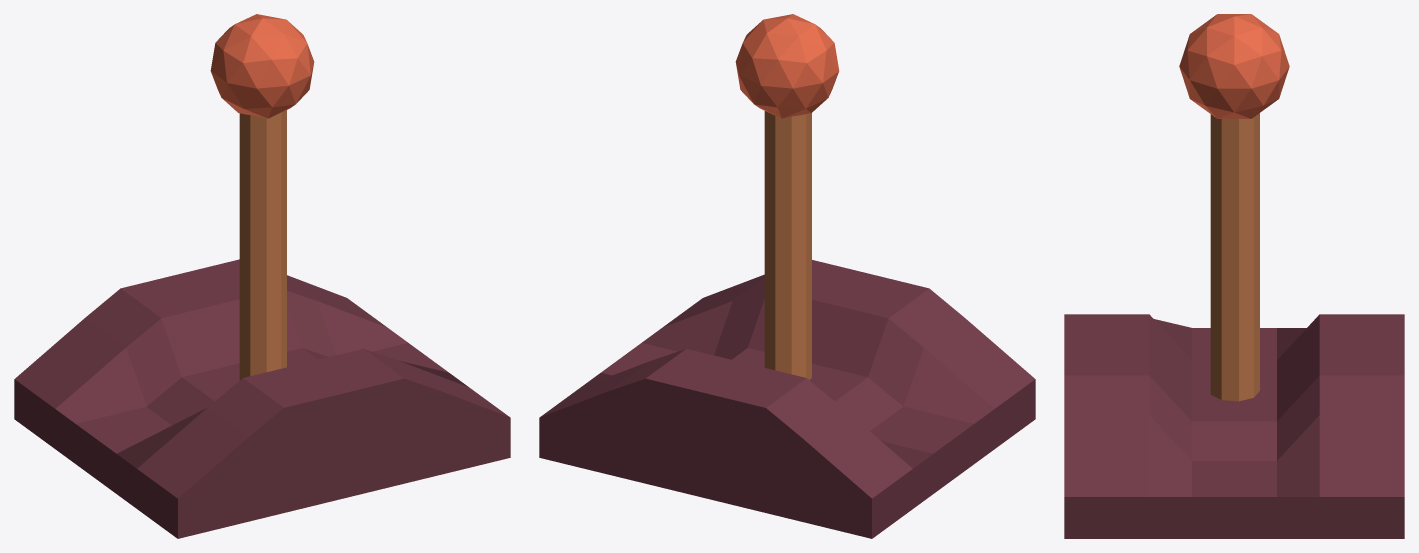
File: SwitchModel.fbx
3 views of the same model, side by side, from view 1: azimuth 30°, elevation 25°; view 2: azimuth 150°, elevation 25°; view 3: azimuth 270°, elevation 25° (orthographic). The views are drawn at different scales.
Parts seen in each view (by area): view 1: Base, Lever; view 2: Base, Lever; view 3: Base, Lever.
Boxes of the visible parts, x1=… form: Base: x1=14, y1=259, x2=510, y2=538; Lever: x1=210, y1=14, x2=314, y2=380; Base: x1=539, y1=260, x2=1035, y2=538; Lever: x1=735, y1=14, x2=839, y2=379; Base: x1=1064, y1=314, x2=1404, y2=538; Lever: x1=1179, y1=14, x2=1289, y2=401.
Bounding box in the file's own units: 235 × 284 × 200.
